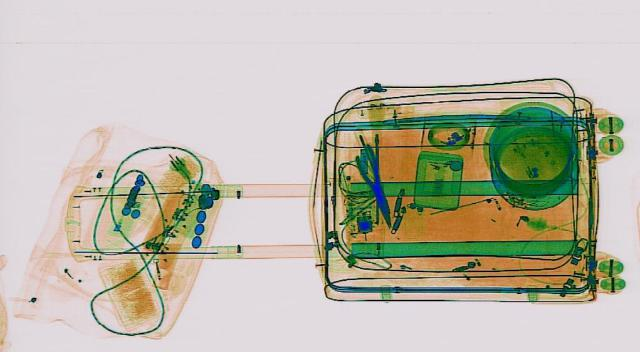Pliers: (348, 143, 402, 227)
